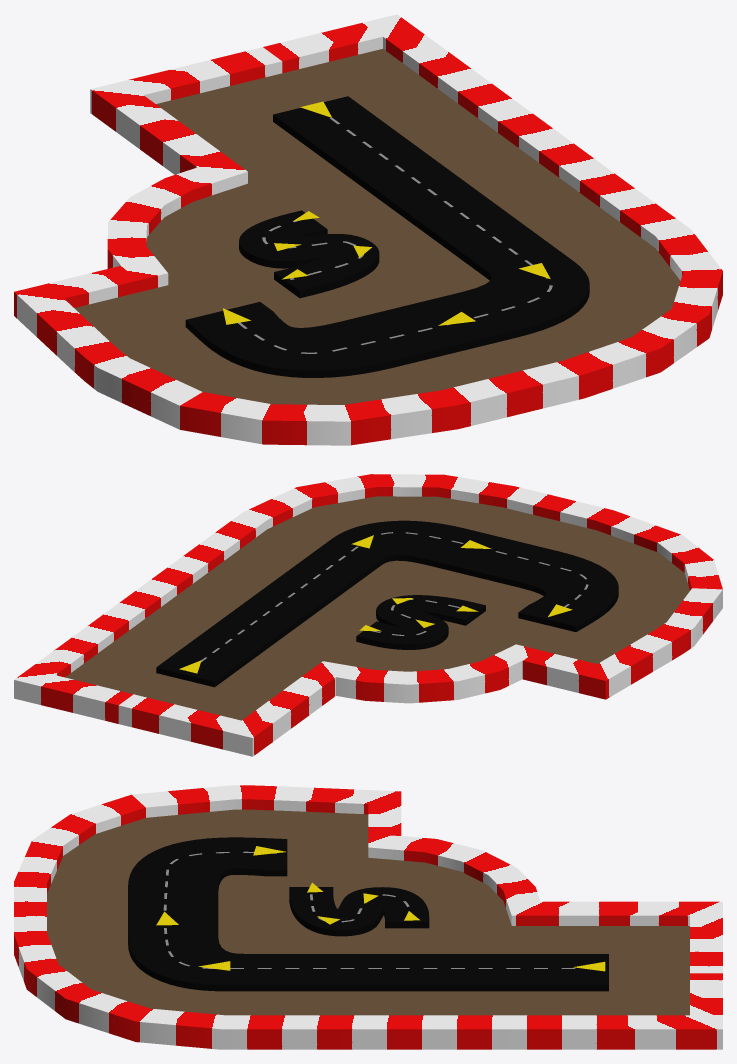
File: kaf.FBX
The picture shows the model from 3 angles, top to bottom: view 1: azimuth 30°, elevation 25°; view 2: azimuth 150°, elevation 25°; view 3: azimuth 270°, elevation 25°; orthographic projection. The views are drawn at different scales.
Visible parts, largest first — view 1: kef_floor, kef_coll, kef, line0; view 2: kef_floor, kef_coll, kef, line0; view 3: kef_floor, kef_coll, kef, line0.
Part boxes in pixels (box(x1,y1,x2,y2)): kef_floor: box(74, 49, 680, 404); kef_coll: box(14, 14, 722, 445); kef: box(185, 96, 589, 377); line0: box(238, 118, 552, 353); kef_floor: box(65, 496, 689, 720); kef_coll: box(14, 474, 722, 756); kef: box(156, 520, 618, 687); line0: box(201, 532, 588, 662); kef_floor: box(47, 809, 689, 1015); kef_coll: box(14, 785, 722, 1049); kef: box(128, 837, 608, 991); line0: box(163, 851, 575, 968).
Size of the model in its own units: 836 by 32.76 by 1026.
